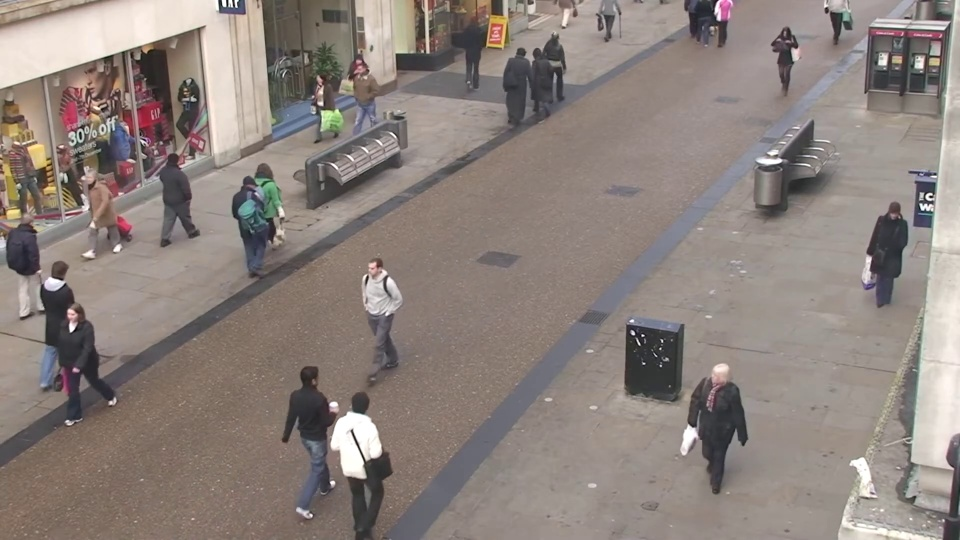pedestrian: (36, 299, 101, 442), (345, 374, 402, 534), (683, 360, 739, 520), (295, 347, 352, 501), (49, 247, 107, 375), (16, 204, 73, 321), (343, 259, 391, 392), (863, 204, 914, 324), (61, 169, 111, 276), (241, 168, 282, 276), (257, 153, 297, 257), (166, 144, 207, 244), (303, 69, 333, 151), (341, 64, 371, 145), (343, 53, 372, 130), (767, 25, 795, 98), (522, 42, 548, 118), (510, 43, 536, 119), (547, 27, 572, 98), (460, 13, 484, 80)
